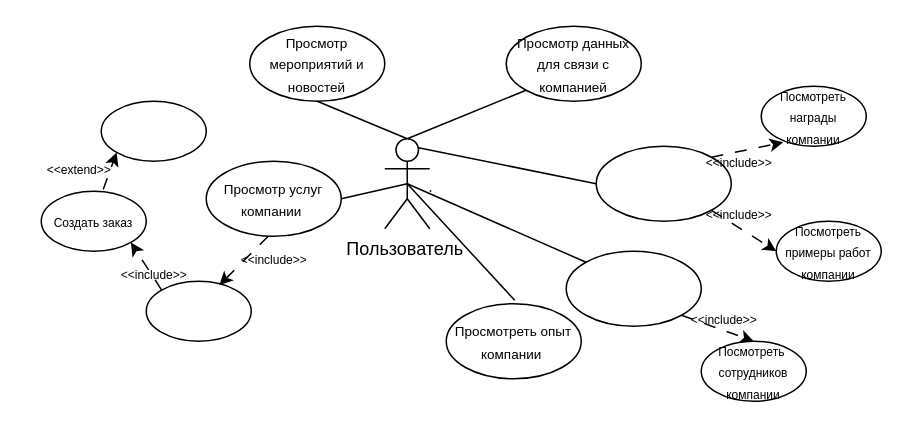
Image size: 908x429. Some labels were removed from this diagram. The box of each missing label's shape, as (x1, y1, x2, y2) in pixels:
Заполнить форму для заказа: (100, 100, 206, 161)
Посмотреть разработку сайтов: (145, 280, 251, 341)
Просмотр информацию о компании: (565, 250, 701, 326)
Просмотр портфолио компании: (595, 145, 731, 221)
